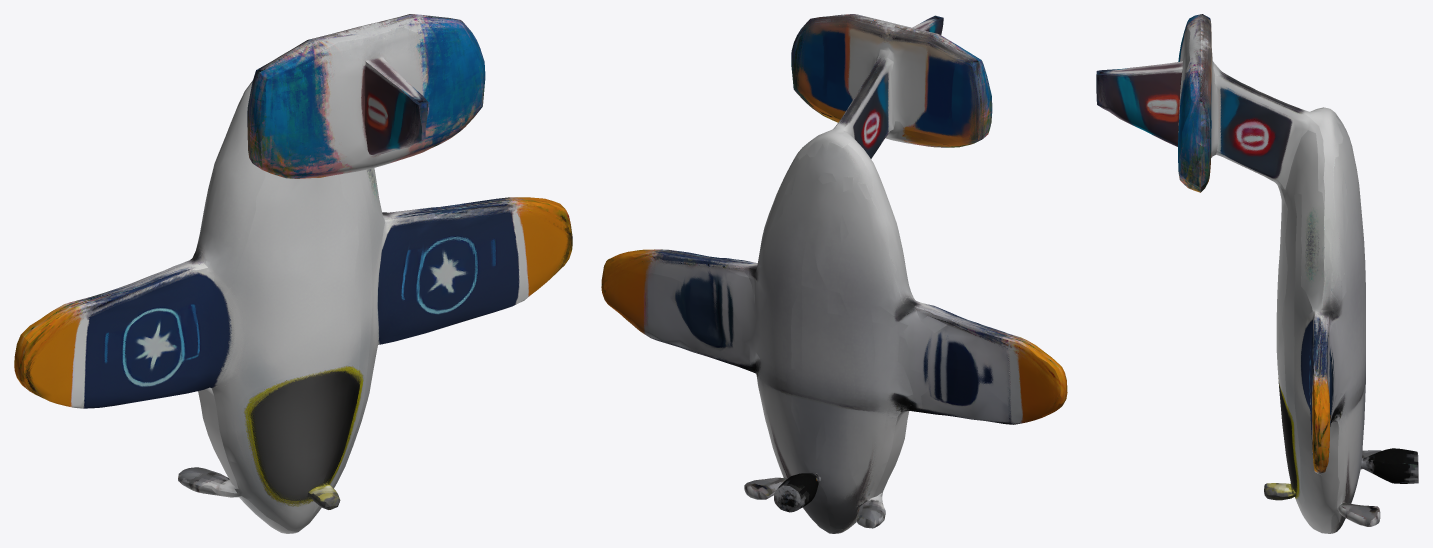
The model's file is out_sim.glb.
The picture shows the model from 3 angles, left to right: view 1: azimuth 30°, elevation 25°; view 2: azimuth 150°, elevation 25°; view 3: azimuth 270°, elevation 25°; orthographic projection. The views are drawn at different scales.
Parts seen in each view (by area): view 1: world; view 2: world; view 3: world.
Part boxes in pixels (x1=…): world: x1=14, y1=14, x2=572, y2=533; world: x1=601, y1=14, x2=1067, y2=533; world: x1=1096, y1=14, x2=1418, y2=533.
Bounding box in the file's own units: 0.9985 × 0.9589 × 0.5697.
1 material, 1 textured.
